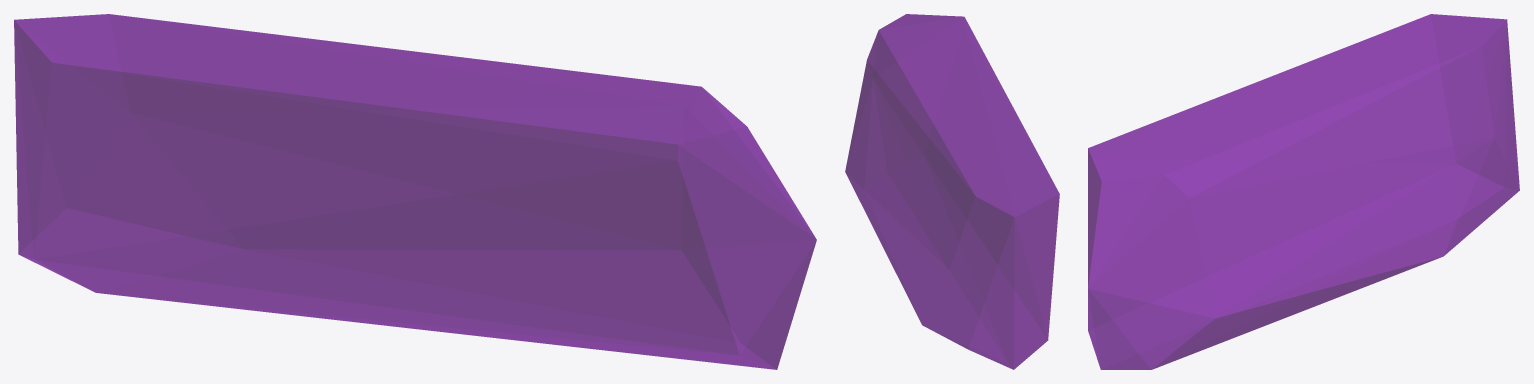
The picture shows the model from 3 angles, left to right: view 1: azimuth 30°, elevation 25°; view 2: azimuth 150°, elevation 25°; view 3: azimuth 270°, elevation 25°; orthographic projection. The views are drawn at different scales.
Visible parts, largest first — view 1: Shape_IndexedFaceSet.036_Shape_IndexedFaceSet.3530; view 2: Shape_IndexedFaceSet.036_Shape_IndexedFaceSet.3530; view 3: Shape_IndexedFaceSet.036_Shape_IndexedFaceSet.3530.
Part boxes in pixels (box(x1,y1,x2,y2)): Shape_IndexedFaceSet.036_Shape_IndexedFaceSet.3530: box(14, 14, 816, 369); Shape_IndexedFaceSet.036_Shape_IndexedFaceSet.3530: box(845, 14, 1059, 369); Shape_IndexedFaceSet.036_Shape_IndexedFaceSet.3530: box(1088, 14, 1519, 369).
Size of the model in its own units: 0.1305 by 0.0614 by 0.1305.
